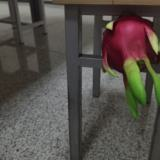pitaya: (102, 13, 160, 110)
